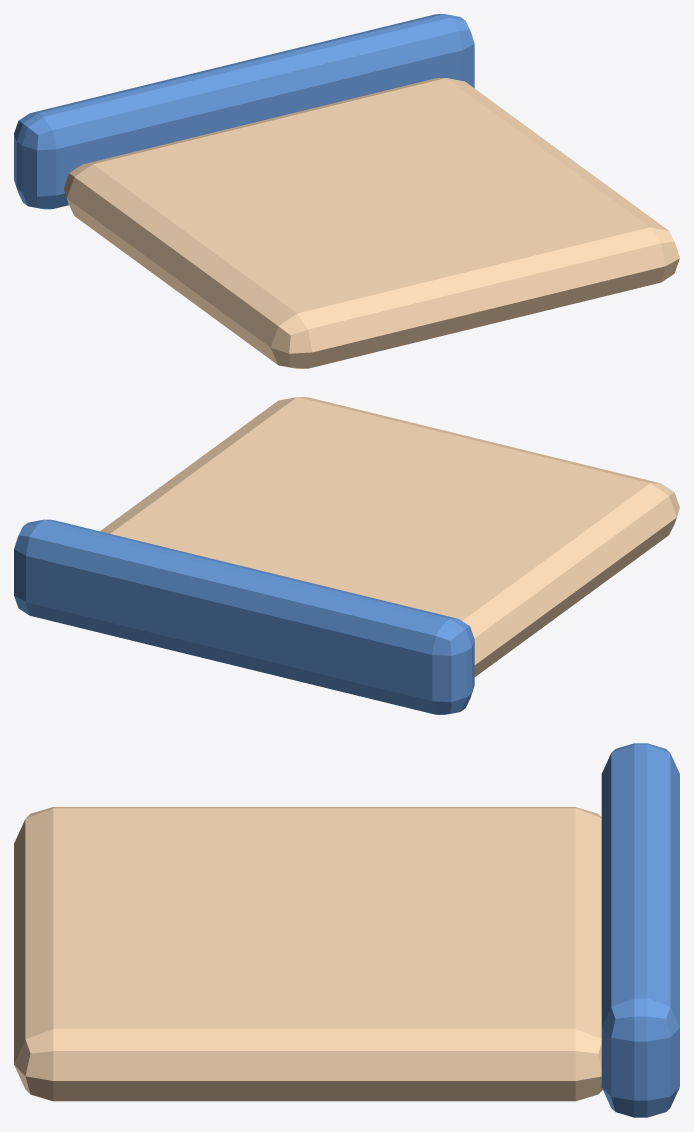
The model's file is PR3D_Tile_Edge.fbx.
The picture shows the model from 3 angles, top to bottom: view 1: azimuth 30°, elevation 25°; view 2: azimuth 150°, elevation 25°; view 3: azimuth 270°, elevation 25°; orthographic projection. The views are drawn at different scales.
Parts seen in each view (by area): view 1: Visual_EdgeTile, Visual_EdgeLip; view 2: Visual_EdgeTile, Visual_EdgeLip; view 3: Visual_EdgeTile, Visual_EdgeLip.
Part boxes in pixels (left/top/right/bottom): Visual_EdgeTile: left=64, top=78, right=679, bottom=368; Visual_EdgeLip: left=14, top=14, right=474, bottom=209; Visual_EdgeTile: left=100, top=397, right=679, bottom=676; Visual_EdgeLip: left=14, top=519, right=474, bottom=714; Visual_EdgeTile: left=14, top=807, right=602, bottom=1101; Visual_EdgeLip: left=601, top=743, right=679, bottom=1117.
Bounding box in the file's own units: 1.02 × 0.2 × 1.02.
